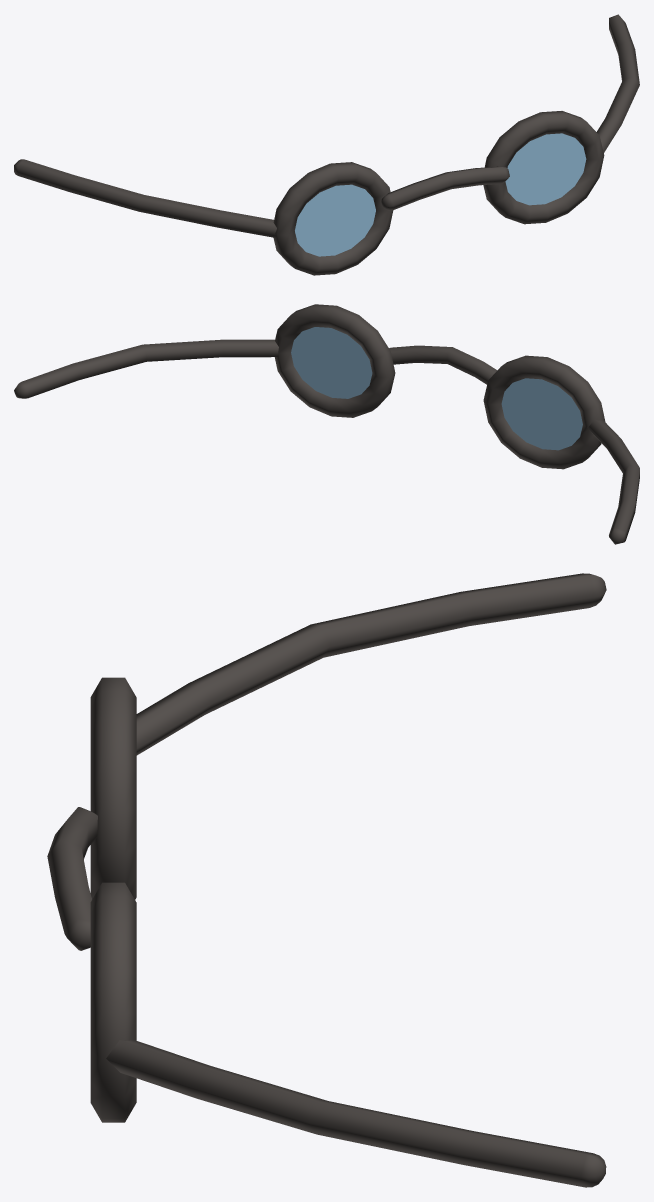
The model's file is glass_bottle_glasses.glb.
3 renders of one model, top to bottom at view 1: azimuth 30°, elevation 25°; view 2: azimuth 150°, elevation 25°; view 3: azimuth 270°, elevation 25°, orthographic. The views are drawn at different scales.
Parts seen in each view (by area): view 1: glass_bottle_glasses_Head; view 2: glass_bottle_glasses_Head; view 3: glass_bottle_glasses_Head.
Boxes of the visible parts, x1=… form: glass_bottle_glasses_Head: x1=14, y1=14, x2=639, y2=275; glass_bottle_glasses_Head: x1=14, y1=304, x2=639, y2=544; glass_bottle_glasses_Head: x1=47, y1=573, x2=606, y2=1187.
Size of the model in its own units: 0.674 by 0.1126 by 0.2681.
